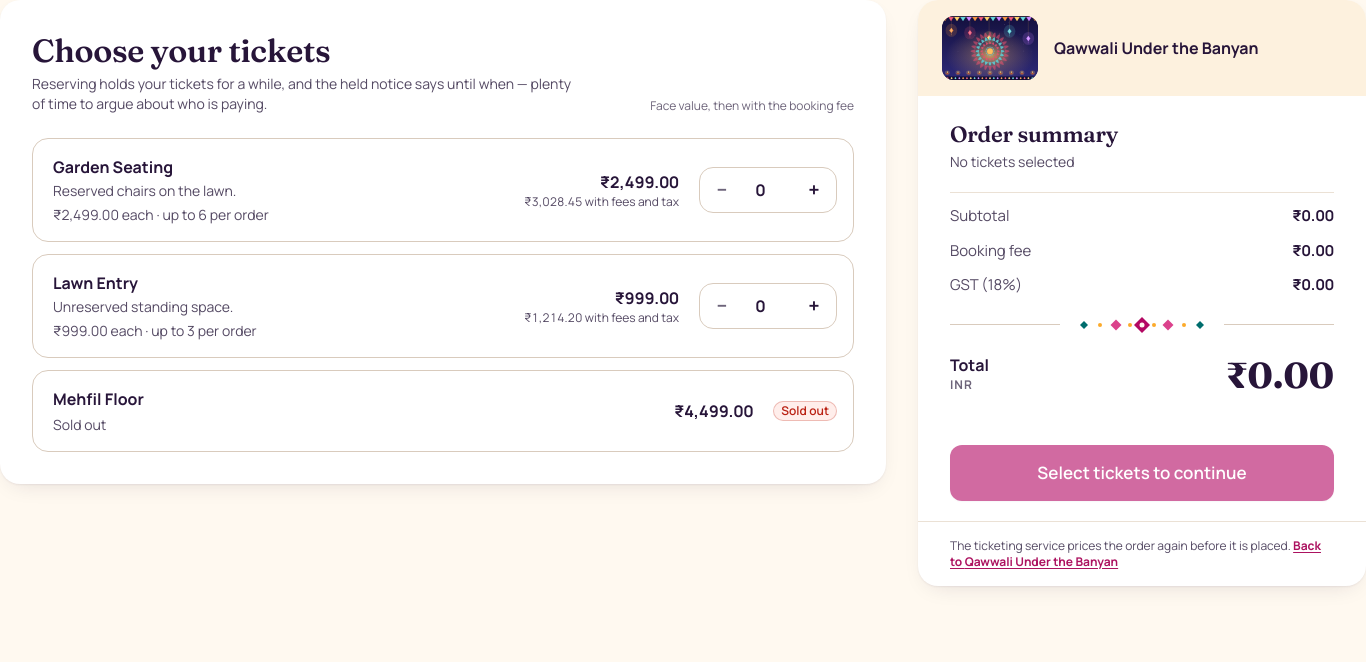
CheckoutBasket › adds a line to the summary for each tier chosen
Step 1. Click the button named "Add one Garden Seating" → x=814, y=190, box [792,168,836,212]
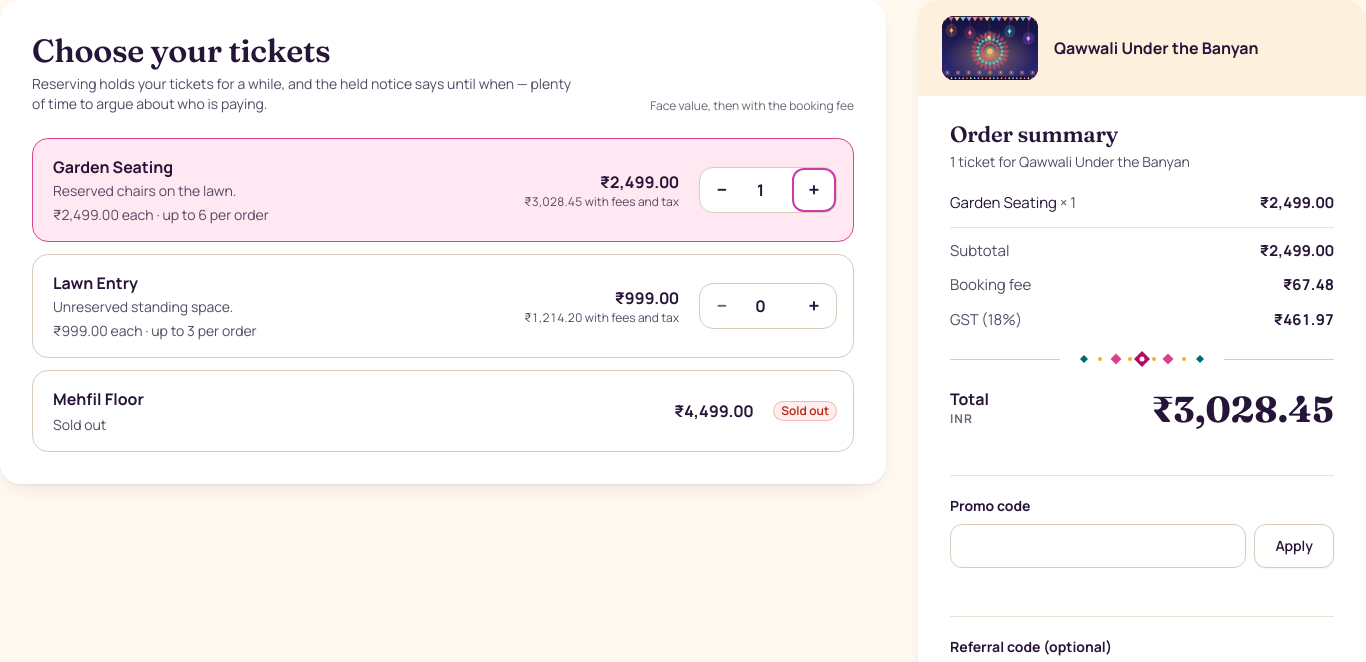
Step 2. Click the button named "Add one Lawn Entry" → x=814, y=306, box [792,284,836,328]
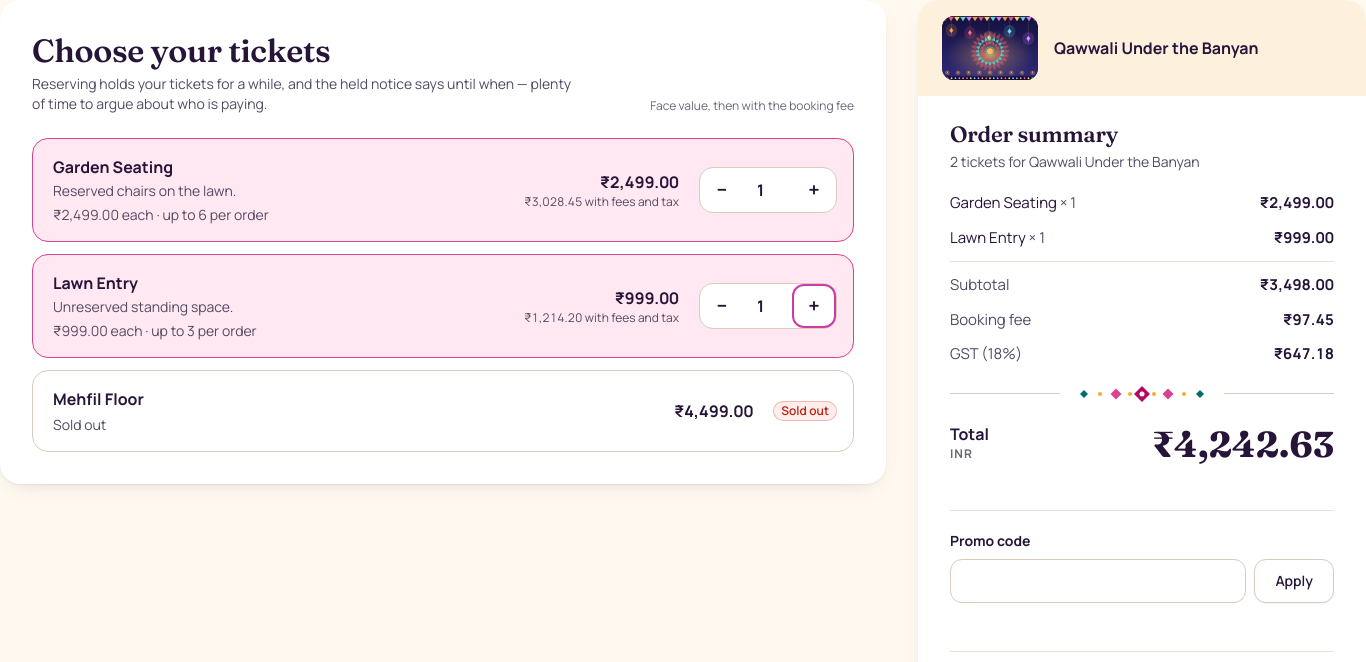
Check: the text "Garden Seating × 1" is shown, box [950,192,1076,214]
Check: the text "2 tickets for Qawwali Under the Banyan" is shown, box [950,152,1200,171]
Check: the text "Lawn Entry × 1" is shown, box [950,226,1045,249]
